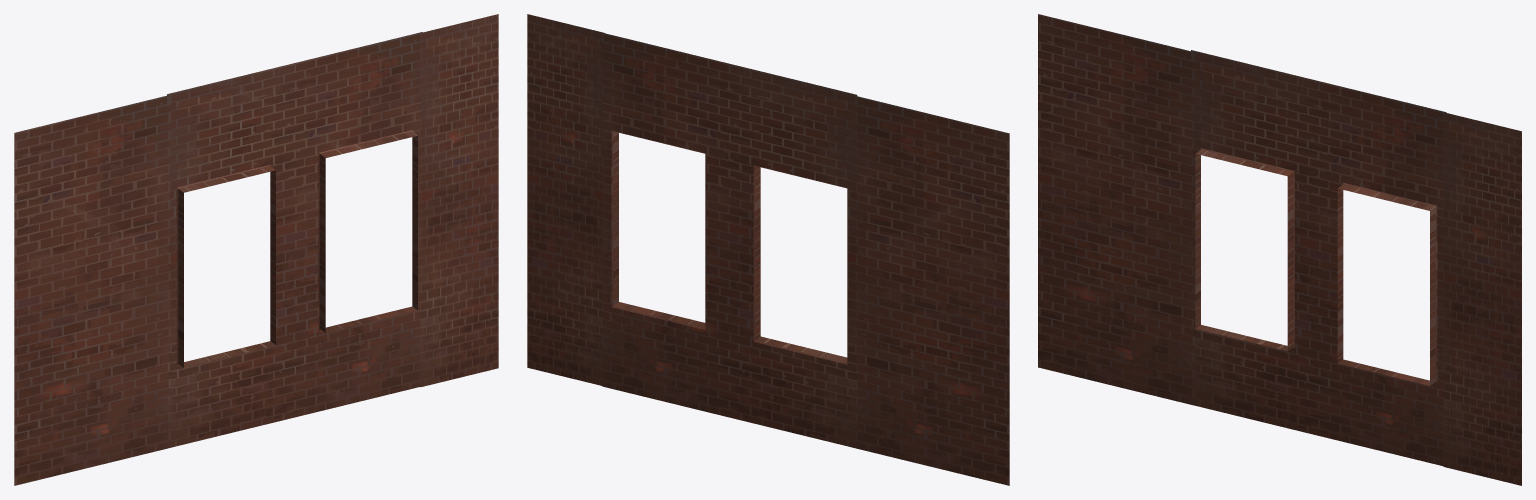
Rendered from Muro_Fre_H1.obj.
3 views of the same model, side by side, from view 1: azimuth 30°, elevation 25°; view 2: azimuth 150°, elevation 25°; view 3: azimuth 330°, elevation 25° (orthographic).
Visible parts, largest first — view 1: Muro_Fre_H1; view 2: Muro_Fre_H1; view 3: Muro_Fre_H1.
Boxes of the visible parts, x1,y1,x2,y2 form: Muro_Fre_H1: (14, 14, 498, 485); Muro_Fre_H1: (527, 14, 1009, 485); Muro_Fre_H1: (1038, 14, 1521, 485).
Bounding box in the file's own units: 3.56 × 2.49 × 0.0786.
Materials: 1 (1 with a texture image).
